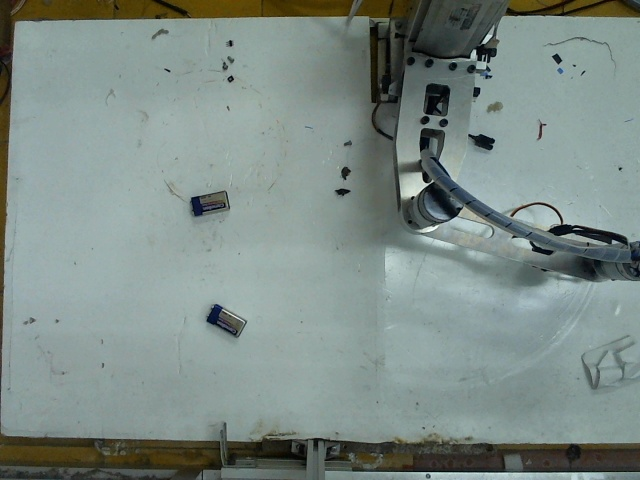battery: (203, 298, 249, 344), (190, 185, 232, 215)
